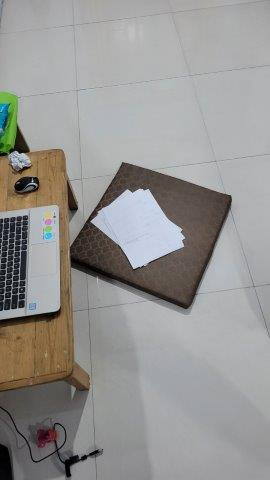kertas: (89, 185, 186, 271)
